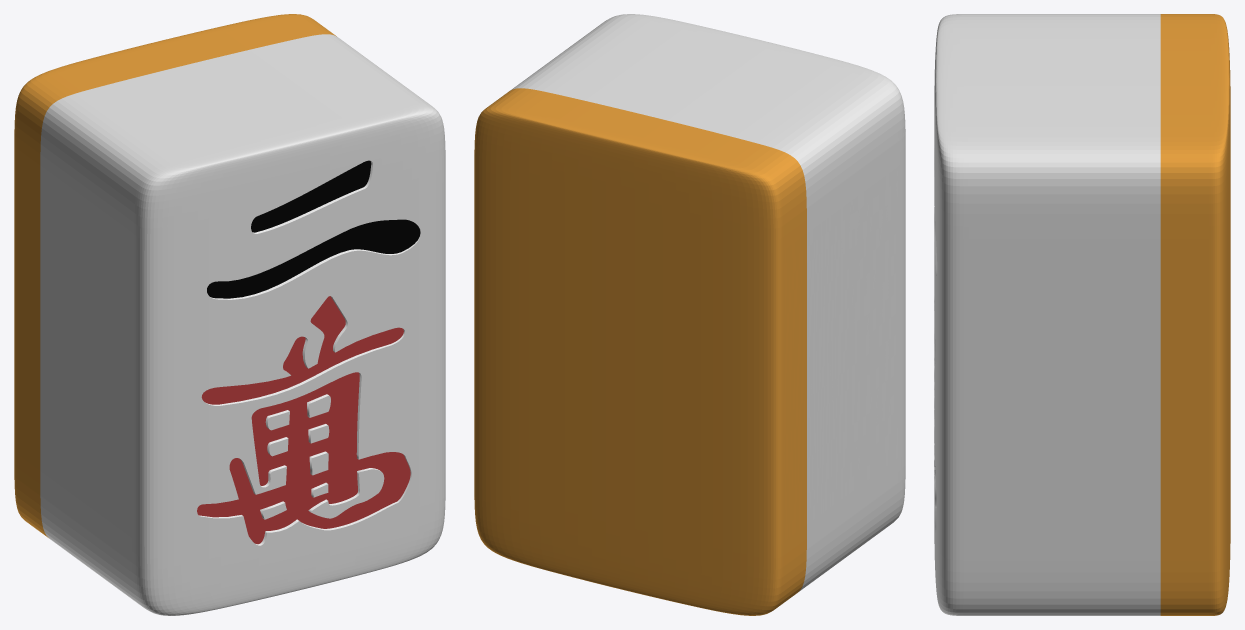
Rendered from Man2.fbx.
3 renders of one model, left to right at view 1: azimuth 30°, elevation 25°; view 2: azimuth 150°, elevation 25°; view 3: azimuth 270°, elevation 25°, orthographic. The views are drawn at different scales.
Visible parts, largest first — view 1: Man2; view 2: Man2; view 3: Man2.
Boxes of the visible parts, x1,y1,x2,y2 form: Man2: (14,14,445,615); Man2: (474,14,905,615); Man2: (934,14,1230,615).
Bounding box in the file's own units: 2 × 2.8 × 1.59.
